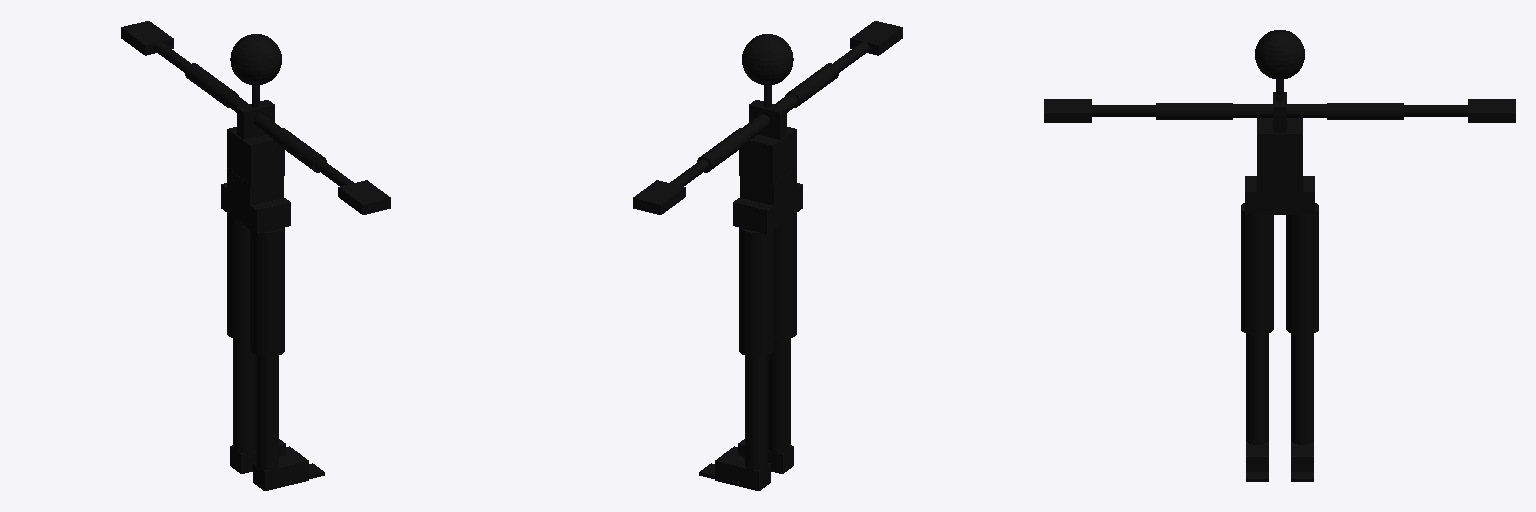
--- Render facts (derived) ---
The picture shows the robot from 3 angles, left to right: view 1: azimuth 30°, elevation 25°; view 2: azimuth 150°, elevation 25°; view 3: azimuth 270°, elevation 25°; orthographic projection.
Robot: XSensStyleModel_template — 51 links, 50 joints (48 revolute, 2 fixed); root link Pelvis; default pose: all joints at 0.
Visible links, largest first — view 1: RightUpperLeg, LeftUpperLeg, RightLowerLeg, LeftLowerLeg, Head, Pelvis, RightFoot, T12, RightHand, L5, LeftHand, L3 (+4 smaller); view 2: LeftUpperLeg, RightUpperLeg, LeftLowerLeg, RightLowerLeg, Head, Pelvis, LeftFoot, T12, LeftHand, L5, RightHand, L3 (+4 smaller); view 3: RightUpperLeg, LeftUpperLeg, RightLowerLeg, LeftLowerLeg, Pelvis, Head, T12, RightUpperArm, LeftUpperArm, RightHand, LeftHand, L5 (+7 smaller).
Boxes of the visible links, <box> form: RightUpperLeg: <box>250,228,284,356</box>; LeftUpperLeg: <box>227,213,249,339</box>; RightLowerLeg: <box>256,356,278,469</box>; LeftLowerLeg: <box>233,339,255,452</box>; Head: <box>230,34,281,85</box>; Pelvis: <box>221,183,290,233</box>; RightFoot: <box>253,452,308,490</box>; T12: <box>227,127,284,164</box>; RightHand: <box>338,180,390,214</box>; L5: <box>227,168,283,205</box>; LeftHand: <box>121,21,173,55</box>; L3: <box>227,148,284,184</box>; LeftUpperLeg: <box>739,228,773,356</box>; RightUpperLeg: <box>774,213,796,339</box>; LeftLowerLeg: <box>745,356,767,469</box>; RightLowerLeg: <box>768,339,790,452</box>; Head: <box>742,34,793,85</box>; Pelvis: <box>733,183,802,233</box>; LeftFoot: <box>715,452,770,490</box>; T12: <box>739,127,796,164</box>; LeftHand: <box>633,180,685,214</box>; L5: <box>740,168,796,205</box>; RightHand: <box>850,21,902,55</box>; L3: <box>739,148,796,184</box>; RightUpperLeg: <box>1241,203,1273,334</box>; LeftUpperLeg: <box>1286,203,1318,334</box>; RightLowerLeg: <box>1246,334,1268,444</box>; LeftLowerLeg: <box>1291,334,1313,444</box>; Pelvis: <box>1245,176,1314,214</box>; Head: <box>1255,30,1304,79</box>; T12: <box>1257,118,1302,152</box>; RightUpperArm: <box>1156,103,1232,119</box>; LeftUpperArm: <box>1327,103,1403,119</box>; RightHand: <box>1044,99,1091,122</box>; LeftHand: <box>1468,99,1515,122</box>; L5: <box>1257,172,1302,191</box>.
Size in the robot's own frame: 0.294 by 1.68 by 1.69 metres.
Geometry: primitives only (box / cylinder / sphere), no mesh files.

URDF robot description (XSensStyleModel_template):
<!--URDF MODEL 48 DoFs-->

<robot name="XSensStyleModel_template">

<material name="color">
    <color rgba="0.1 0.1 0.1 1"/>
</material>

<!--To open this model with Gazebo replace the null masses, inertias and dimensions of the 'fake links f1 and f2'-->
    <!--LINKS-->
	<!--Link base (1)-->
	<link name="Pelvis">
        <inertial>
            <mass value="4.4"/>
			<!--COM origin wrt pHipOrigin-->
            <origin xyz="0           0    0.048424" rpy="0 0 0" />
            <inertia ixx="0.025751" iyy="0.0099332" izz="0.029571" ixy="0" ixz="0" iyz="0"/>
        </inertial>

        <visual>
			<!--box origin wrt pHipOrigin-->
            <origin xyz="0           0    0.048424" rpy="0 0 0" />
            <geometry>
                <box size="0.13695     0.24878    0.091304"/>
            </geometry>
            <material name="color"/>
        </visual>

        <collision>
			<!--box origin wrt pHipOrigin-->
            <origin xyz="0           0    0.048424" rpy="0 0 0" />
            <geometry>
                <box size="0.13695     0.24878    0.091304"/>
            </geometry>
        </collision>

    </link>
    <!--Chain from (2) to (7)-->
	<link name="L5_f1">
        <inertial>
            <mass value="0"/>
            <origin xyz="0 0 0" rpy="0 0 0" />
            <inertia ixx="0" iyy="0" izz="0" ixy="0" ixz="0" iyz="0"/>
        </inertial>
    </link>
	<link name="L5">
        <inertial>
            <mass value="5.61"/>
			<!--COM origin wrt jL5S1-->
            <origin xyz="0           0    0.040831" rpy="0 0 0" />
            <inertia ixx="0.015357" iyy="0.011885" izz="0.021007" ixy="0" ixz="0" iyz="0"/>
        </inertial>

        <visual>
			<!--box origin origin wrt jL5S1-->
            <origin xyz="0           0    0.040831" rpy="0 0 0" />
            <geometry>
                <box size="0.13695      0.1618    0.081662"/>
            </geometry>
            <material name="color"/>
        </visual>

        <collision>
			<!--box origin origin wrt jL5S1-->
            <origin xyz="0           0    0.040831" rpy="0 0 0" />
            <geometry>
                <box size="0.13695      0.1618    0.081662"/>
            </geometry>
        </collision>
    </link>
	<link name="L3_f1">
        <inertial>
            <mass value="0"/>
            <origin xyz="0 0 0" rpy="0 0 0" />
            <inertia ixx="0" iyy="0" izz="0" ixy="0" ixz="0" iyz="0"/>
        </inertial>
    </link>
	<link name="L3">
        <inertial>
            <mass value="5.61"/>
			<!--COM origin wrt jL4L3-->
            <origin xyz="0           0    0.036874" rpy="0 0 0" />
            <inertia ixx="0.014782" iyy="0.01131" izz="0.021007" ixy="0" ixz="0" iyz="0"/>
        </inertial>

        <visual>
			<!--box origin origin wrt jL4L3-->
            <origin xyz="0           0    0.036874" rpy="0 0 0" />
            <geometry>
                <box size="0.13695      0.1618    0.073749"/>
            </geometry>
            <material name="color"/>
        </visual>

        <collision>
			<!--box origin origin wrt jL4L3-->
            <origin xyz="0           0    0.036874" rpy="0 0 0" />
            <geometry>
                <box size="0.13695      0.1618    0.073749"/>
            </geometry>
        </collision>
    </link>
	<link name="T12_f1">
        <inertial>
            <mass value="0"/>
            <origin xyz="0 0 0" rpy="0 0 0" />
            <inertia ixx="0" iyy="0" izz="0" ixy="0" ixz="0" iyz="0"/>
        </inertial>
    </link>
	<link name="T12">
        <inertial>
            <mass value="5.61"/>
			<!--COM origin wrt jL1T12-->
            <origin xyz="0           0    0.036874" rpy="0 0 0" />
            <inertia ixx="0.014782" iyy="0.01131" izz="0.021007" ixy="0" ixz="0" iyz="0"/>
        </inertial>

        <visual>
			<!--box origin origin wrt jL1T12-->
            <origin xyz="0           0    0.036874" rpy="0 0 0" />
            <geometry>
                <box size="0.13695      0.1618    0.073749"/>
            </geometry>
            <material name="color"/>
        </visual>

        <collision>
			<!--box origin origin wrt jL1T12-->
            <origin xyz="0           0    0.036874" rpy="0 0 0" />
            <geometry>
                <box size="0.13695      0.1618    0.073749"/>
            </geometry>
        </collision>
    </link>
	<link name="T8_f1">
        <inertial>
            <mass value="0"/>
            <origin xyz="0 0 0" rpy="0 0 0" />
            <inertia ixx="0" iyy="0" izz="0" ixy="0" ixz="0" iyz="0"/>
        </inertial>
    </link>
	<link name="T8_f2">
        <inertial>
            <mass value="0"/>
            <origin xyz="0 0 0" rpy="0 0 0" />
            <inertia ixx="0" iyy="0" izz="0" ixy="0" ixz="0" iyz="0"/>
        </inertial>
    </link>
	<link name="T8">
        <inertial>
            <mass value="2.2"/>
			<!--COM origin wrt jT9T8-->
            <origin xyz="0           0    0.052124" rpy="0 0 0" />
            <inertia ixx="0.0024867" iyy="0.0048766" izz="0.0033785" ixy="0" ixz="0" iyz="0"/>
        </inertial>

        <visual>
			<!--box origin wrt jT9T8-->
            <origin xyz="0           0    0.052124" rpy="0 0 0" />
            <geometry>
                <box size="0.12543    0.051924     0.10425"/>
            </geometry>
            <material name="color"/>
        </visual>

        <collision>
			<!--box origin wrt jT9T8-->
            <origin xyz="0           0    0.052124" rpy="0 0 0" />
            <geometry>
                <box size="0.12543    0.051924     0.10425"/>
            </geometry>
        </collision>

    </link>
	<link name="Neck_f1">
        <inertial>
            <mass value="0"/>
            <origin xyz="0 0 0" rpy="0 0 0" />
            <inertia ixx="0" iyy="0" izz="0" ixy="0" ixz="0" iyz="0"/>
        </inertial>
    </link>
	<link name="Neck_f2">
        <inertial>
            <mass value="0"/>
            <origin xyz="0 0 0" rpy="0 0 0" />
            <inertia ixx="0" iyy="0" izz="0" ixy="0" ixz="0" iyz="0"/>
        </inertial>
    </link>
	<link name="Neck">
        <inertial>
            <mass value="0.66"/>
			<!--COM origin wrt jT1C7-->
            <origin xyz="0           0    0.043706" rpy="0 0 0" />
            <inertia ixx="0.00055144" iyy="0.00055144" izz="0.00026239" ixy="0" ixz="0" iyz="0"/>
        </inertial>

        <visual>
			<!--box origin wrt jT1C7-->
            <origin xyz="0           0    0.043706" rpy="0 0 0" />
            <geometry>
		<cylinder length="0.087412" radius="0.014099"/>
            </geometry>
            <material name="color"/>
        </visual>

        <collision>
			<!--box origin wrt jT1C7-->
            <origin xyz="0           0    0.043706" rpy="0 0 0" />
            <geometry>
                <cylinder length="0.087412" radius="0.014099"/>
            </geometry>
        </collision>
    </link>
	<link name="Head_f1">
        <inertial>
            <mass value="0"/>
            <origin xyz="0 0 0" rpy="0 0 0" />
            <inertia ixx="0" iyy="0" izz="0" ixy="0" ixz="0" iyz="0"/>
        </inertial>
    </link>
	<link name="Head">
        <inertial>
            <mass value="1.98"/>
			<!--COM origin wrt jC1Head-->
            <origin xyz="0           0    0.089927" rpy="0 0 0" />
            <inertia ixx="0.0064049" iyy="0.0064049" izz="0.0064049" ixy="0" ixz="0" iyz="0"/>
        </inertial>

        <visual>
			<!--boc origin wrt jC1Head-->
            <origin xyz="0           0    0.089927" rpy="0 0 0" />
            <geometry>
                <sphere radius="0.089927"/>
            </geometry>
            <material name="color"/>
        </visual>

        <collision>
			<!--box origin wrt jC1Head-->
            <origin xyz="0           0    0.089927" rpy="0 0 0" />
            <geometry>
                <sphere radius="0.089927"/>
            </geometry>
        </collision>

    </link>
	<!--Chain from (8) to (11)-->
	<link name="RightShoulder">
        <inertial>
            <mass value="1.705"/>
			<!--COM origin wrt jRightC7Shoulder-->
            <origin xyz="0   -0.070455           0" rpy="0 0 0" />
            <inertia ixx="0.0030911" iyy="0.00053983" izz="0.0030911" ixy="0" ixz="0" iyz="0"/>
        </inertial>

        <visual>
			<!--box origin wrt jRightC7Shoulder. RPY rotated of pi/2.-->
            <origin xyz="0   -0.070455           0" rpy="1.5708 0 0" />
            <geometry>
                <cylinder length="0.14091" radius="0.025164"/>
            </geometry>
            <material name="color"/>
        </visual>

        <collision>
			<!--box origin wrt jRightC7Shoulder. RPY rotated of pi/2.-->
            <origin xyz="0   -0.070455           0" rpy="1.5708 0 0" />
            <geometry>
                <cylinder length="0.14091" radius="0.025164"/>
            </geometry>
        </collision>

    </link>
	<link name="RightUpperArm_f1">
        <inertial>
            <mass value="0"/>
            <origin xyz="0 0 0" rpy="0 0 0" />
            <inertia ixx="0" iyy="0" izz="0" ixy="0" ixz="0" iyz="0"/>
        </inertial>
    </link>
	<link name="RightUpperArm_f2">
        <inertial>
            <mass value="0"/>
            <origin xyz="0 0 0" rpy="0 0 0" />
            <inertia ixx="0" iyy="0" izz="0" ixy="0" ixz="0" iyz="0"/>
        </inertial>
    </link>
    <link name="RightUpperArm">
        <inertial>
            <mass value="1.65"/>
			<!--COM origin wrt jRightShoulder-->
            <origin xyz="0    -0.13806           0" rpy="0 0 0" />
            <inertia ixx="0.010857" iyy="0.00074763" izz="0.010857" ixy="0" ixz="0" iyz="0"/>
        </inertial>

        <visual>
			<!--box origin wrt jRightShoulder. RPY rotated of pi/2.-->
            <origin xyz="0    -0.13806           0" rpy="1.5708 0 0" />
            <geometry>
                <cylinder length="0.27611" radius="0.030104"/>
            </geometry>
            <material name="color"/>
        </visual>

        <collision>
			<!--box origin wrt jRightShoulder. RPY rotated of pi/2.-->
            <origin xyz="0    -0.13806           0" rpy="1.5708 0 0" />
            <geometry>
                <cylinder length="0.27611" radius="0.030104"/>
            </geometry>
        </collision>

    </link>
	<link name="RightForeArm_f1">
        <inertial>
            <mass value="0"/>
            <origin xyz="0 0 0" rpy="0 0 0" />
            <inertia ixx="0" iyy="0" izz="0" ixy="0" ixz="0" iyz="0"/>
        </inertial>
    </link>
	<link name="RightForeArm">
        <inertial>
            <mass value="1.1"/>
			<!--COM origin wrt jRightElbow-->
            <origin xyz="0    -0.11372           0" rpy="0 0 0" />
            <inertia ixx="0.0048522" iyy="0.00022152" izz="0.0048522" ixy="0" ixz="0" iyz="0"/>
        </inertial>

        <visual>
			<!--box origin wrt jRightElbow. RPY rotated of pi/2.-->
            <origin xyz="0    -0.11372           0" rpy="1.5708 0 0" />
            <geometry>
                <cylinder length="0.22743" radius="0.020069"/>
            </geometry>
            <material name="color"/>
        </visual>

        <collision>
			<!--box origin wrt jRightElbow. RPY rotated of pi/2.-->
            <origin xyz="0    -0.11372           0" rpy="1.5708 0 0" />
            <geometry>
                <cylinder length="0.22743" radius="0.020069"/>
            </geometry>
        </collision>

    </link>
	<link name="RightHand_f1">
        <inertial>
            <mass value="0"/>
            <origin xyz="0 0 0" rpy="0 0 0" />
            <inertia ixx="0" iyy="0" izz="0" ixy="0" ixz="0" iyz="0"/>
        </inertial>
    </link>
	<link name="RightHand">
        <inertial>
            <mass value="0.33"/>
			<!--COM origin wrt jRightWrist-->
            <origin xyz="0   -0.085441           0" rpy="0 0 0" />
            <inertia ixx="0.00084732" iyy="0.0004012" izz="0.0011599" ixy="0" ixz="0" iyz="0"/>
        </inertial>

        <visual>
			<!--box origin wrt jRightWrist-->
            <origin xyz="0   -0.085441           0" rpy="0 0 0" />
            <geometry>
                <box size="0.11392     0.17088    0.040138"/>
            </geometry>
            <material name="color"/>
        </visual>

        <collision>
			<!--box origin wrt jRightWrist-->
            <origin xyz="0   -0.085441           0" rpy="0 0 0" />
            <geometry>
                <box size="0.11392     0.17088    0.040138"/>
            </geometry>
        </collision>

    </link>
    <link name="RightHandCOM">
        <inertial>
            <mass value="0.00001"/>
            <origin xyz="0 0 0" rpy="0 0 0" />
            <inertia ixx="0" iyy="0" izz="0" ixy="0" ixz="0" iyz="0"/>
        </inertial>
        <visual>
            <!--box origin wrt jRightWrist-->
            <origin xyz="0   0           0" rpy="0 0 0" />
            <geometry>
                <box size="0     0    0"/>
            </geometry>
            <material name="color"/>
        </visual>
    </link>
	<!--Chain from (12) to (15)-->
	<link name="LeftShoulder">
        <inertial>
            <mass value="1.705"/>
			<!--COM origin wrt jLeftC7Shoulder-->
            <origin xyz="0    0.070455           0" rpy="0 0 0" />
            <inertia ixx="0.0030911" iyy="0.00053983" izz="0.0030911" ixy="0" ixz="0" iyz="0"/>
        </inertial>

        <visual>
			<!--box origin wrt jLeftC7Shoulder. RPY rotated of pi/2.-->
            <origin xyz="0    0.070455           0" rpy="1.5708 0 0" />
            <geometry>
                <cylinder length="0.14091" radius="0.025164"/>
            </geometry>
            <material name="color"/>
        </visual>

        <collision>
			<!--box origin wrt jLeftC7Shoulder. RPY rotated of pi/2.-->
            <origin xyz="0    0.070455           0" rpy="1.5708 0 0" />
            <geometry>
                <cylinder length="0.14091" radius="0.025164"/>
            </geometry>
        </collision>

    </link>
	<link name="LeftUpperArm_f1">
        <inertial>
            <mass value="0"/>
            <origin xyz="0 0 0" rpy="0 0 0" />
            <inertia ixx="0" iyy="0" izz="0" ixy="0" ixz="0" iyz="0"/>
        </inertial>
    </link>
	<link name="LeftUpperArm_f2">
        <inertial>
            <mass value="0"/>
            <origin xyz="0 0 0" rpy="0 0 0" />
            <inertia ixx="0" iyy="0" izz="0" ixy="0" ixz="0" iyz="0"/>
        </inertial>
    </link>
	<link name="LeftUpperArm">
        <inertial>
            <mass value="1.65"/>
			<!--COM origin wrt jLeftShoulder-->
            <origin xyz="0     0.13806           0" rpy="0 0 0" />
            <inertia ixx="0.010857" iyy="0.00074763" izz="0.010857" ixy="0" ixz="0" iyz="0"/>
        </inertial>

        <visual>
			<!--box origin wrt jLeftShoulder. RPY rotated of pi/2.-->
            <origin xyz="0     0.13806           0" rpy="1.5708 0 0" />
            <geometry>
                <cylinder length="0.27611" radius="0.030104"/>
            </geometry>
            <material name="color"/>
        </visual>

        <collision>
			<!--box origin wrt jLeftShoulder. RPY rotated of pi/2.-->
            <origin xyz="0     0.13806           0" rpy="1.5708 0 0" />
            <geometry>
                <cylinder length="0.27611" radius="0.030104"/>
            </geometry>
        </collision>

    </link>
	<link name="LeftForeArm_f1">
        <inertial>
            <mass value="0"/>
            <origin xyz="0 0 0" rpy="0 0 0" />
            <inertia ixx="0" iyy="0" izz="0" ixy="0" ixz="0" iyz="0"/>
        </inertial>
    </link>
	<link name="LeftForeArm">
        <inertial>
            <mass value="1.1"/>
			<!--COM origin wrt jLeftElbow-->
            <origin xyz="0     0.11372           0" rpy="0 0 0" />
            <inertia ixx="0.0048522" iyy="0.00022152" izz="0.0048522" ixy="0" ixz="0" iyz="0"/>
        </inertial>

        <visual>
			<!--box origin wrt jLeftElbow. RPY rotated of pi/2.-->
            <origin xyz="0     0.11372           0" rpy="1.5708 0 0" />
            <geometry>
                <cylinder length="0.22743" radius="0.020069"/>
            </geometry>
            <material name="color"/>
        </visual>

        <collision>
			<!--box origin wrt jLeftElbow. RPY rotated of pi/2.-->
            <origin xyz="0     0.11372           0" rpy="1.5708 0 0" />
            <geometry>
                <cylinder length="0.22743" radius="0.020069"/>
            </geometry>
        </collision>

    </link>
	<link name="LeftHand_f1">
        <inertial>
            <mass value="0"/>
            <origin xyz="0 0 0" rpy="0 0 0" />
            <inertia ixx="0" iyy="0" izz="0" ixy="0" ixz="0" iyz="0"/>
        </inertial>
    </link>
	<link name="LeftHand">
        <inertial>
            <mass value="0.33"/>
			<!--COM origin wrt jLeftWrist-->
            <origin xyz="0    0.085441           0" rpy="0 0 0" />
            <inertia ixx="0.00084732" iyy="0.0004012" izz="0.0011599" ixy="0" ixz="0" iyz="0"/>
        </inertial>

        <visual>
			<!--COM origin wrt jLeftWrist-->
            <origin xyz="0    0.085441           0" rpy="0 0 0" />
            <geometry>
                <box size="0.11392     0.17088    0.040138"/>
            </geometry>
            <material name="color"/>
        </visual>

        <collision>
			<!--COM origin wrt jLeftWrist-->
            <origin xyz="0    0.085441           0" rpy="0 0 0" />
            <geometry>
                <box size="0.11392     0.17088    0.040138"/>
            </geometry>
        </collision>

    </link>
    <link name="LeftHandCOM">
        <inertial>
            <mass value="0.00001"/>
            <origin xyz="0 0 0" rpy="0 0 0" />
            <inertia ixx="0" iyy="0" izz="0" ixy="0" ixz="0" iyz="0"/>
        </inertial>
        <visual>
            <!--COM origin wrt jLeftWrist-->
            <origin xyz="0    0           0" rpy="0 0 0" />
            <geometry>
                <box size="0     0    0"/>
            </geometry>
            <material name="color"/>
        </visual>
    </link>
	<!--Chain from (16) to (19)-->
	<link name="RightUpperLeg_f1">
        <inertial>
            <mass value="0"/>
            <origin xyz="0 0 0" rpy="0 0 0" />
            <inertia ixx="0" iyy="0" izz="0" ixy="0" ixz="0" iyz="0"/>
        </inertial>
    </link>
	<link name="RightUpperLeg_f2">
        <inertial>
            <mass value="0"/>
            <origin xyz="0 0 0" rpy="0 0 0" />
            <inertia ixx="0" iyy="0" izz="0" ixy="0" ixz="0" iyz="0"/>
        </inertial>
    </link>
    <link name="RightUpperLeg">
        <inertial>
            <mass value="6.875"/>
			<!--COM origin wrt jRightHip-->
            <origin xyz="0           0    -0.23835" rpy="0 0 0" />
            <inertia ixx="0.1364" iyy="0.1364" izz="0.012416" ixy="0" ixz="0" iyz="0"/>
        </inertial>

        <visual>
			<!--box origin wrt jRightHip-->
            <origin xyz="0           0    -0.23835" rpy="0 0 0" />
            <geometry>
                <cylinder length="0.4767" radius="0.060101"/>
            </geometry>
            <material name="color"/>
        </visual>

        <collision>
			<!--box origin wrt jRightHip-->
            <origin xyz="0           0    -0.23835" rpy="0 0 0" />
            <geometry>
                <cylinder length="0.4767" radius="0.060101"/>
            </geometry>
        </collision>

    </link>
	<link name="RightLowerLeg_f1">
        <inertial>
            <mass value="0"/>
            <origin xyz="0 0 0" rpy="0 0 0" />
            <inertia ixx="0" iyy="0" izz="0" ixy="0" ixz="0" iyz="0"/>
        </inertial>
    </link>
    <link name="RightLowerLeg">
        <inertial>
            <mass value="2.0075"/>
			<!--COM origin wrt jRightKnee-->
            <origin xyz="0           0    -0.22044" rpy="0 0 0" />
            <inertia ixx="0.033337" iyy="0.033337" izz="0.0016411" ixy="0" ixz="0" iyz="0"/>
        </inertial>

        <visual>
			<!--box origin wrt jRightKnee-->
            <origin xyz="0           0    -0.22044" rpy="0 0 0" />
            <geometry>
                <cylinder length="0.44087" radius="0.040434"/>
            </geometry>
            <material name="color"/>
        </visual>

        <collision>
			<!--box origin wrt jRightKnee-->
            <origin xyz="0           0    -0.22044" rpy="0 0 0" />
            <geometry>
                <cylinder length="0.44087" radius="0.040434"/>
            </geometry>
        </collision>

    </link>
	<link name="RightFoot_f1">
        <inertial>
            <mass value="0"/>
            <origin xyz="0 0 0" rpy="0 0 0" />
            <inertia ixx="0" iyy="0" izz="0" ixy="0" ixz="0" iyz="0"/>
        </inertial>
    </link>
	<link name="RightFoot_f2">
        <inertial>
            <mass value="0"/>
            <origin xyz="0 0 0" rpy="0 0 0" />
            <inertia ixx="0" iyy="0" izz="0" ixy="0" ixz="0" iyz="0"/>
        </inertial>
    </link>
    <link name="RightFoot">
        <inertial>
            <mass value="0.715"/>
			<!--COM origin wrt jRightAnkle-->
            <origin xyz="0.054236           0   -0.037868" rpy="0 0 0" />
            <inertia ixx="0.00073144" iyy="0.0022406" izz="0.0022885" ixy="0" ixz="0" iyz="0"/>
        </inertial>

        <visual>
			<!--box origin wrt jRightAnkle-->
	    	<origin xyz="0.054236           0   -0.037868" rpy="0 0 0" />
            <geometry>
                <box size="0.17852    0.080869    0.075737"/>
            </geometry>
            <material name="color"/>
        </visual>

        <collision>
			<!--box origin wrt jRightAnkle-->
		    <origin xyz="0.054236           0   -0.037868" rpy="0 0 0" />
	            <geometry>
	                <box size="0.17852    0.080869    0.075737"/>
	            </geometry>
        </collision>

    </link>
    <link name="RightToe">
        <inertial>
            <mass value="0.0825"/>
			<!--COM origin wrt jRightBallFoot-->
            <origin xyz="0.030741           0           0" rpy="0 0 0" />
            <inertia ixx="4.6403e-05" iyy="2.7429e-05" izz="7.0948e-05" ixy="0" ixz="0" iyz="0"/>
        </inertial>

        <visual>
			<!--box origin wrt jRightBallFoot-->
            <origin xyz="0.030741           0           0" rpy="0 0 0" />
            <geometry>
                <box size="0.061481    0.080869    0.014482"/>
            </geometry>
            <material name="color"/>
        </visual>

        <collision>
			<!--box origin wrt jRightBallFoot-->
            <origin xyz="0.030741           0           0" rpy="0 0 0" />
            <geometry>
                <box size="0.061481    0.080869    0.014482"/>
            </geometry>
        </collision>
    </link>
	<!--Chain from (20) to (23)-->
	<link name="LeftUpperLeg_f1">
        <inertial>
            <mass value="0"/>
            <origin xyz="0 0 0" rpy="0 0 0" />
            <inertia ixx="0" iyy="0" izz="0" ixy="0" ixz="0" iyz="0"/>
        </inertial>
    </link>
	<link name="LeftUpperLeg_f2">
        <inertial>
            <mass value="0"/>
            <origin xyz="0 0 0" rpy="0 0 0" />
            <inertia ixx="0" iyy="0" izz="0" ixy="0" ixz="0" iyz="0"/>
        </inertial>
    </link>
    <link name="LeftUpperLeg">
        <inertial>
            <mass value="6.875"/>
			<!--COM origin wrt jLeftHip-->
            <origin xyz="0           0    -0.23835" rpy="0 0 0" />
            <inertia ixx="0.1364" iyy="0.1364" izz="0.012416" ixy="0" ixz="0" iyz="0"/>
        </inertial>

        <visual>
			<!--box origin wrt jLeftHip-->
            <origin xyz="0           0    -0.23835" rpy="0 0 0" />
            <geometry>
                <cylinder length="0.4767" radius="0.060101"/>
            </geometry>
            <material name="color"/>
        </visual>

        <collision>
			<!--box origin wrt jLeftHip-->
            <origin xyz="0           0    -0.23835" rpy="0 0 0" />
            <geometry>
                <cylinder length="0.4767" radius="0.060101"/>
            </geometry>
        </collision>

    </link>
	<link name="LeftLowerLeg_f1">
        <inertial>
            <mass value="0"/>
            <origin xyz="0 0 0" rpy="0 0 0" />
            <inertia ixx="0" iyy="0" izz="0" ixy="0" ixz="0" iyz="0"/>
        </inertial>
    </link>
	<link name="LeftLowerLeg">
        <inertial>
            <mass value="2.0075"/>
			<!--COM origin wrt jLeftKnee-->
            <origin xyz="0           0    -0.22044" rpy="0 0 0" />
            <inertia ixx="0.033337" iyy="0.033337" izz="0.0016411" ixy="0" ixz="0" iyz="0"/>
        </inertial>

        <visual>
			<!--box origin wrt jLeftKnee-->
            <origin xyz="0           0    -0.22044" rpy="0 0 0" />
            <geometry>
		<cylinder length="0.44087" radius="0.040434"/>
            </geometry>
            <material name="color"/>
        </visual>

        <collision>
			<!--box origin wrt jLeftKnee-->
            <origin xyz="0           0    -0.22044" rpy="0 0 0" />
            <geometry>
		<cylinder length="0.44087" radius="0.040434"/>
            </geometry>
        </collision>

    </link>
	<link name="LeftFoot_f1">
        <inertial>
            <mass value="0"/>
            <origin xyz="0 0 0" rpy="0 0 0" />
            <inertia ixx="0" iyy="0" izz="0" ixy="0" ixz="0" iyz="0"/>
        </inertial>
    </link>
	<link name="LeftFoot_f2">
        <inertial>
            <mass value="0"/>
            <origin xyz="0 0 0" rpy="0 0 0" />
            <inertia ixx="0" iyy="0" izz="0" ixy="0" ixz="0" iyz="0"/>
        </inertial>
    </link>
    <link name="LeftFoot">
        <inertial>
            <mass value="0.715"/>
			<!--COM origin wrt jLeftAnkle-->
            <origin xyz="0.054236           0   -0.037868" rpy="0 0 0" />
            <inertia ixx="0.00073144" iyy="0.0022406" izz="0.0022885" ixy="0" ixz="0" iyz="0"/>
        </inertial>

        <visual>
			<!--box origin wrt jLeftAnkle-->
	   	 	<origin xyz="0.054236           0   -0.037868" rpy="0 0 0" />
            <geometry>
                <box size="0.17852    0.080869    0.075737"/>
            </geometry>
            <material name="color"/>
        </visual>

        <collision>
			<!--box origin wrt jLeftAnkle-->
		    <origin xyz="0.054236           0   -0.037868" rpy="0 0 0" />
	            <geometry>
	                <box size="0.17852    0.080869    0.075737"/>
	            </geometry>
        </collision>

    </link>
	<link name="LeftToe">
        <inertial>
            <mass value="0.0825"/>
			<!--COM origin wrt jLeftBallFoot-->
            <origin xyz="0.030741           0           0" rpy="0 0 0" />
            <inertia ixx="4.6403e-05" iyy="2.7429e-05" izz="7.0948e-05" ixy="0" ixz="0" iyz="0"/>
        </inertial>

        <visual>
			<!--box origin wrt jLeftBallFoot-->
            <origin xyz="0.030741           0           0" rpy="0 0 0" />
            <geometry>
                <box size="0.061481    0.080869    0.014482"/>
            </geometry>
            <material name="color"/>
        </visual>

        <collision>
			<!--box origin wrt jLeftBallFoot-->
            <origin xyz="0.030741           0           0" rpy="0 0 0" />
            <geometry>
                <box size="0.061481    0.080869    0.014482"/>
            </geometry>
        </collision>
    </link>


	<!--JOINTS-->
	<!--Chain from (2) to (7)-->
	<joint name="jL5S1_rotx" type="revolute">
        <origin xyz="-0.000566           0    0.094076" rpy="0 0 0"/>
        <parent link="Pelvis"/>
        <child link="L5_f1"/>
        <dynamics damping="0.1" friction="0.0"/>
        <limit effort="30" velocity="1.0" lower="-10.0" upper="10.0" />
        <axis xyz="1 0 0" />
    </joint>
	<joint name="jL5S1_roty" type="revolute">
        <origin xyz="0 0 0" rpy="0 0 0"/>
        <parent link="L5_f1"/>
        <child link="L5"/>
        <dynamics damping="0.1" friction="0.0"/>
        <limit effort="30" velocity="1.0" lower="-10.0" upper="10.0" />
        <axis xyz="0 1 0" />
    </joint>
	<joint name="jL4L3_rotx" type="revolute">
        <origin xyz="0.001028           0    0.081662" rpy="0 0 0"/>
        <parent link="L5"/>
        <child link="L3_f1"/>
        <dynamics damping="0.1" friction="0.0"/>
        <limit effort="30" velocity="1.0" lower="-10.0" upper="10.0" />
        <axis xyz="1 0 0" />
    </joint>
	<joint name="jL4L3_roty" type="revolute">
        <origin xyz="0 0 0" rpy="0 0 0"/>
        <parent link="L3_f1"/>
        <child link="L3"/>
        <dynamics damping="0.1" friction="0.0"/>
        <limit effort="30" velocity="1.0" lower="-10.0" upper="10.0" />
        <axis xyz="0 1 0" />
    </joint>
	<joint name="jL1T12_rotx" type="revolute">
        <origin xyz="0           0    0.073749" rpy="0 0 0"/>
        <parent link="L3"/>
        <child link="T12_f1"/>
        <dynamics damping="0.1" friction="0.0"/>
        <limit effort="30" velocity="1.0" lower="-10.0" upper="10.0" />
        <axis xyz="1 0 0" />
    </joint>
	<joint name="jL1T12_roty" type="revolute">
        <origin xyz="0 0 0" rpy="0 0 0"/>
        <parent link="T12_f1"/>
        <child link="T12"/>
        <dynamics damping="0.1" friction="0.0"/>
        <limit effort="30" velocity="1.0" lower="-10.0" upper="10.0" />
        <axis xyz="0 1 0" />
    </joint>
	<joint name="jT9T8_rotx" type="revolute">
        <origin xyz="0           0    0.073749" rpy="0 0 0"/>
        <parent link="T12"/>
        <child link="T8_f1"/>
        <dynamics damping="0.1" friction="0.0"/>
        <limit effort="30" velocity="1.0" lower="-10.0" upper="10.0" />
        <axis xyz="1 0 0" />
    </joint>
	<joint name="jT9T8_roty" type="revolute">
        <origin xyz="0 0 0" rpy="0 0 0"/>
        <parent link="T8_f1"/>
        <child link="T8_f2"/>
        <dynamics damping="0.1" friction="0.0"/>
        <limit effort="30" velocity="1.0" lower="-10.0" upper="10.0" />
        <axis xyz="0 1 0" />
    </joint>
    <joint name="jT9T8_rotz" type="revolute">
        <origin xyz="0 0 0" rpy="0 0 0"/>
        <parent link="T8_f2"/>
        <child link="T8"/>
        <dynamics damping="0.1" friction="0.0"/>
        <limit effort="30" velocity="1.0" lower="-10.0" upper="10.0" />
        <axis xyz="0 0 1" />
    </joint>
	<joint name="jT1C7_rotx" type="revolute">
        <origin xyz="0           0     0.10425" rpy="0 0 0"/>
        <parent link="T8"/>
        <child link="Neck_f1"/>
        <dynamics damping="0.1" friction="0.0"/>
        <limit effort="30" velocity="1.0" lower="-10.0" upper="10.0" />
        <axis xyz="1 0 0" />
    </joint>
	<joint name="jT1C7_roty" type="revolute">
        <origin xyz="0 0 0" rpy="0 0 0"/>
        <parent link="Neck_f1"/>
        <child link="Neck_f2"/>
        <dynamics damping="0.1" friction="0.0"/>
        <limit effort="30" velocity="1.0" lower="-10.0" upper="10.0" />
        <axis xyz="0 1 0" />
    </joint>
    <joint name="jT1C7_rotz" type="revolute">
        <origin xyz="0 0 0" rpy="0 0 0"/>
        <parent link="Neck_f2"/>
        <child link="Neck"/>
        <dynamics damping="0.1" friction="0.0"/>
        <limit effort="30" velocity="1.0" lower="-10.0" upper="10.0" />
        <axis xyz="0 0 1" />
    </joint>
	<joint name="jC1Head_rotx" type="revolute">
        <origin xyz="0.000961           0    0.087412" rpy="0 0 0"/>
        <parent link="Neck"/>
        <child link="Head_f1"/>
        <dynamics damping="0.1" friction="0.0"/>
        <limit effort="30" velocity="1.0" lower="-10.0" upper="10.0" />
        <axis xyz="1 0 0" />
    </joint>
	<joint name="jC1Head_roty" type="revolute">
        <origin xyz="0 0 0" rpy="0 0 0"/>
        <parent link="Head_f1"/>
        <child link="Head"/>
        <dynamics damping="0.1" friction="0.0"/>
        <limit effort="30" velocity="1.0" lower="-10.0" upper="10.0" />
        <axis xyz="0 1 0" />
    </joint>
	<!--Chain from (8) to (11)-->
	<joint name="jRightC7Shoulder_rotx" type="revolute">
        <origin xyz="0   -0.025962    0.058814" rpy="0 0 0"/>
        <parent link="T8"/>
        <child link="RightShoulder"/>
        <dynamics damping="0.1" friction="0.0"/>
        <limit effort="30" velocity="1.0" lower="-10.0" upper="10.0" />
        <axis xyz="1 0 0" />
    </joint>
	<joint name="jRightShoulder_rotx" type="revolute">
        <origin xyz="0    -0.14091           0" rpy="0 0 0"/>
        <parent link="RightShoulder"/>
        <child link="RightUpperArm_f1"/>
        <dynamics damping="0.1" friction="0.0"/>
        <limit effort="30" velocity="1.0" lower="-10.0" upper="10.0" />
        <axis xyz="1 0 0" />
    </joint>
	<joint name="jRightShoulder_roty" type="revolute">
        <origin xyz="0 0 0" rpy="0 0 0"/>
        <parent link="RightUpperArm_f1"/>
        <child link="RightUpperArm_f2"/>
        <dynamics damping="0.1" friction="0.0"/>
        <limit effort="30" velocity="1.0" lower="-10.0" upper="10.0" />
        <axis xyz="0 1 0" />
    </joint>
    <joint name="jRightShoulder_rotz" type="revolute">
        <origin xyz="0 0 0" rpy="0 0 0"/>
        <parent link="RightUpperArm_f2"/>
        <child link="RightUpperArm"/>
        <dynamics damping="0.1" friction="0.0"/>
        <limit effort="30" velocity="1.0" lower="-10.0" upper="10.0" />
        <axis xyz="0 0 1" />
    </joint>
	<joint name="jRightElbow_roty" type="revolute">
        <origin xyz="0    -0.27611           0" rpy="0 0 0"/>
        <parent link="RightUpperArm"/>
        <child link="RightForeArm_f1"/>
        <dynamics damping="0.1" friction="0.0"/>
        <limit effort="30" velocity="1.0" lower="-10.0" upper="10.0" />
        <axis xyz="0 1 0" />
    </joint>
	<joint name="jRightElbow_rotz" type="revolute">
        <origin xyz="0 0 0" rpy="0 0 0"/>
        <parent link="RightForeArm_f1"/>
        <child link="RightForeArm"/>
        <dynamics damping="0.1" friction="0.0"/>
        <limit effort="30" velocity="1.0" lower="-10.0" upper="10.0" />
        <axis xyz="0 0 1" />
    </joint>
	<joint name="jRightWrist_rotx" type="revolute">
        <origin xyz="7.2e-05    -0.22743           0" rpy="0 0 0"/>
        <parent link="RightForeArm"/>
        <child link="RightHand_f1"/>
        <dynamics damping="0.1" friction="0.0"/>
        <limit effort="30" velocity="1.0" lower="-10.0" upper="10.0" />
        <axis xyz="1 0 0" />
    </joint>
	<joint name="jRightWrist_rotz" type="revolute">
        <origin xyz="0 0 0" rpy="0 0 0"/>
        <parent link="RightHand_f1"/>
        <child link="RightHand"/>
        <dynamics damping="0.1" friction="0.0"/>
        <limit effort="30" velocity="1.0" lower="-10.0" upper="10.0" />
        <axis xyz="0 0 1" />
    </joint>
    <joint name="jRightHandCOM" type="fixed">
        <origin xyz="0 -0.096206 0" rpy="0 0 0"/>
        <parent link="RightHand"/>
        <child link="RightHandCOM"/>
        <axis xyz="0 0 0" />
    </joint>
	<!--Chain from (12) to (15)-->
	<joint name="jLeftC7Shoulder_rotx" type="revolute">
        <origin xyz="0    0.025962    0.058814" rpy="0 0 0"/>
        <parent link="T8"/>
        <child link="LeftShoulder"/>
        <dynamics damping="0.1" friction="0.0"/>
        <limit effort="30" velocity="1.0" lower="-10.0" upper="10.0" />
        <axis xyz="1 0 0" />
    </joint>
	<joint name="jLeftShoulder_rotx" type="revolute">
        <origin xyz="0     0.14091           0" rpy="0 0 0"/>
        <parent link="LeftShoulder"/>
        <child link="LeftUpperArm_f1"/>
        <dynamics damping="0.1" friction="0.0"/>
        <limit effort="30" velocity="1.0" lower="-10.0" upper="10.0" />
        <axis xyz="1 0 0" />
    </joint>
	<joint name="jLeftShoulder_roty" type="revolute">
        <origin xyz="0 0 0" rpy="0 0 0"/>
        <parent link="LeftUpperArm_f1"/>
        <child link="LeftUpperArm_f2"/>
        <dynamics damping="0.1" friction="0.0"/>
        <limit effort="30" velocity="1.0" lower="-10.0" upper="10.0" />
        <axis xyz="0 1 0" />
    </joint>
    <joint name="jLeftShoulder_rotz" type="revolute">
        <origin xyz="0 0 0" rpy="0 0 0"/>
        <parent link="LeftUpperArm_f2"/>
        <child link="LeftUpperArm"/>
        <dynamics damping="0.1" friction="0.0"/>
        <limit effort="30" velocity="1.0" lower="-10.0" upper="10.0" />
        <axis xyz="0 0 1" />
    </joint>
    <joint name="jLeftElbow_roty" type="revolute">
        <origin xyz="0     0.27611           0" rpy="0 0 0"/>
        <parent link="LeftUpperArm"/>
        <child link="LeftForeArm_f1"/>
        <dynamics damping="0.1" friction="0.0"/>
        <limit effort="30" velocity="1.0" lower="-10.0" upper="10.0" />
        <axis xyz="0 1 0" />
    </joint>
    <joint name="jLeftElbow_rotz" type="revolute">
        <origin xyz="0 0 0" rpy="0 0 0"/>
        <parent link="LeftForeArm_f1"/>
        <child link="LeftForeArm"/>
        <dynamics damping="0.1" friction="0.0"/>
        <limit effort="30" velocity="1.0" lower="-10.0" upper="10.0" />
        <axis xyz="0 0 1" />
    </joint>
	<joint name="jLeftWrist_rotx" type="revolute">
        <origin xyz="7.2e-05     0.22743           0" rpy="0 0 0"/>
        <parent link="LeftForeArm"/>
        <child link="LeftHand_f1"/>
        <dynamics damping="0.1" friction="0.0"/>
        <limit effort="30" velocity="1.0" lower="-10.0" upper="10.0" />
        <axis xyz="1 0 0" />
    </joint>
	<joint name="jLeftWrist_rotz" type="revolute">
        <origin xyz="0 0 0" rpy="0 0 0"/>
        <parent link="LeftHand_f1"/>
        <child link="LeftHand"/>
        <dynamics damping="0.1" friction="0.0"/>
        <limit effort="30" velocity="1.0" lower="-10.0" upper="10.0" />
        <axis xyz="0 0 1" />
    </joint>
    <joint name="jLeftHandCOM" type="fixed">
        <origin xyz="0 0.096206 0" rpy="0 0 0"/>
        <parent link="LeftHand"/>
        <child link="LeftHandCOM"/>
        <axis xyz="0 0 0" />
    </joint>
	<!--Chain from (16) to (19)-->
	<joint name="jRightHip_rotx" type="revolute">
        <origin xyz="0.000283   -0.080902    0.002772" rpy="0 0 0"/>
        <parent link="Pelvis"/>
        <child link="RightUpperLeg_f1"/>
        <dynamics damping="0.1" friction="0.0"/>
        <limit effort="30" velocity="1.0" lower="-10.0" upper="10.0" />
        <axis xyz="1 0 0" />
    </joint>
	<joint name="jRightHip_roty" type="revolute">
        <origin xyz="0 0 0" rpy="0 0 0"/>
        <parent link="RightUpperLeg_f1"/>
        <child link="RightUpperLeg_f2"/>
        <dynamics damping="0.1" friction="0.0"/>
        <limit effort="30" velocity="1.0" lower="-10.0" upper="10.0" />
        <axis xyz="0 1 0" />
    </joint>
    <joint name="jRightHip_rotz" type="revolute">
        <origin xyz="0 0 0" rpy="0 0 0"/>
        <parent link="RightUpperLeg_f2"/>
        <child link="RightUpperLeg"/>
        <dynamics damping="0.1" friction="0.0"/>
        <limit effort="30" velocity="1.0" lower="-10.0" upper="10.0" />
        <axis xyz="0 0 1" />
    </joint>
	<joint name="jRightKnee_roty" type="revolute">
        <origin xyz="-3e-06           0     -0.4767" rpy="0 0 0"/>
        <parent link="RightUpperLeg"/>
        <child link="RightLowerLeg_f1"/>
        <dynamics damping="0.1" friction="0.0"/>
        <limit effort="30" velocity="1.0" lower="-10.0" upper="10.0" />
        <axis xyz="0 1 0" />
    </joint>
	<joint name="jRightKnee_rotz" type="revolute">
        <origin xyz="0 0 0" rpy="0 0 0"/>
        <parent link="RightLowerLeg_f1"/>
        <child link="RightLowerLeg"/>
        <dynamics damping="0.1" friction="0.0"/>
        <limit effort="30" velocity="1.0" lower="-10.0" upper="10.0" />
        <axis xyz="0 0 1" />
    </joint>
	<joint name="jRightAnkle_rotx" type="revolute">
        <origin xyz="0.000249           0    -0.44087" rpy="0 0 0"/>
        <parent link="RightLowerLeg"/>
        <child link="RightFoot_f1"/>
        <dynamics damping="0.1" friction="0.0"/>
        <limit effort="30" velocity="1.0" lower="-10.0" upper="10.0" />
        <axis xyz="1 0 0" />
    </joint>
	<joint name="jRightAnkle_roty" type="revolute">
        <origin xyz="0 0 0" rpy="0 0 0"/>
        <parent link="RightFoot_f1"/>
        <child link="RightFoot_f2"/>
        <dynamics damping="0.1" friction="0.0"/>
        <limit effort="30" velocity="1.0" lower="-10.0" upper="10.0" />
        <axis xyz="0 1 0" />
    </joint>
    <joint name="jRightAnkle_rotz" type="revolute">
        <origin xyz="0 0 0" rpy="0 0 0"/>
        <parent link="RightFoot_f2"/>
        <child link="RightFoot"/>
        <dynamics damping="0.1" friction="0.0"/>
        <limit effort="30" velocity="1.0" lower="-10.0" upper="10.0" />
        <axis xyz="0 0 1" />
    </joint>
	<joint name="jRightBallFoot_roty" type="revolute">
        <origin xyz="0.1435           0   -0.063865" rpy="0 0 0"/>
        <parent link="RightFoot"/>
        <child link="RightToe"/>
        <dynamics damping="0.1" friction="0.0"/>
        <limit effort="30" velocity="1.0" lower="-10.0" upper="10.0" />
        <axis xyz="0 1 0" />
    </joint>
	<!--Chain from (20) to (23)-->
	<joint name="jLeftHip_rotx" type="revolute">
        <origin xyz="0.000283    0.080902    0.002772" rpy="0 0 0"/>
        <parent link="Pelvis"/>
        <child link="LeftUpperLeg_f1"/>
        <dynamics damping="0.1" friction="0.0"/>
        <limit effort="30" velocity="1.0" lower="-10.0" upper="10.0" />
        <axis xyz="1 0 0" />
    </joint>
	<joint name="jLeftHip_roty" type="revolute">
        <origin xyz="0 0 0" rpy="0 0 0"/>
        <parent link="LeftUpperLeg_f1"/>
        <child link="LeftUpperLeg_f2"/>
        <dynamics damping="0.1" friction="0.0"/>
        <limit effort="30" velocity="1.0" lower="-10.0" upper="10.0" />
        <axis xyz="0 1 0" />
    </joint>
    <joint name="jLeftHip_rotz" type="revolute">
        <origin xyz="0 0 0" rpy="0 0 0"/>
        <parent link="LeftUpperLeg_f2"/>
        <child link="LeftUpperLeg"/>
        <dynamics damping="0.1" friction="0.0"/>
        <limit effort="30" velocity="1.0" lower="-10.0" upper="10.0" />
        <axis xyz="0 0 1" />
    </joint>
	<joint name="jLeftKnee_roty" type="revolute">
        <origin xyz="-3e-06           0     -0.4767" rpy="0 0 0"/>
        <parent link="LeftUpperLeg"/>
        <child link="LeftLowerLeg_f1"/>
        <dynamics damping="0.1" friction="0.0"/>
        <limit effort="30" velocity="1.0" lower="-10.0" upper="10.0" />
        <axis xyz="0 1 0" />
    </joint>
    <joint name="jLeftKnee_rotz" type="revolute">
        <origin xyz="0 0 0" rpy="0 0 0"/>
        <parent link="LeftLowerLeg_f1"/>
        <child link="LeftLowerLeg"/>
        <dynamics damping="0.1" friction="0.0"/>
        <limit effort="30" velocity="1.0" lower="-10.0" upper="10.0" />
        <axis xyz="0 0 1" />
    </joint>
	<joint name="jLeftAnkle_rotx" type="revolute">
        <origin xyz="0.000249           0    -0.44087" rpy="0 0 0"/>
        <parent link="LeftLowerLeg"/>
        <child link="LeftFoot_f1"/>
        <dynamics damping="0.1" friction="0.0"/>
        <limit effort="30" velocity="1.0" lower="-10.0" upper="10.0" />
        <axis xyz="1 0 0" />
    </joint>
	<joint name="jLeftAnkle_roty" type="revolute">
        <origin xyz="0 0 0" rpy="0 0 0"/>
        <parent link="LeftFoot_f1"/>
        <child link="LeftFoot_f2"/>
        <dynamics damping="0.1" friction="0.0"/>
        <limit effort="30" velocity="1.0" lower="-10.0" upper="10.0" />
        <axis xyz="0 1 0" />
    </joint>
    <joint name="jLeftAnkle_rotz" type="revolute">
        <origin xyz="0 0 0" rpy="0 0 0"/>
        <parent link="LeftFoot_f2"/>
        <child link="LeftFoot"/>
        <dynamics damping="0.1" friction="0.0"/>
        <limit effort="30" velocity="1.0" lower="-10.0" upper="10.0" />
        <axis xyz="0 0 1" />
    </joint>
	<joint name="jLeftBallFoot_roty" type="revolute">
        <origin xyz="0.1435           0   -0.063865" rpy="0 0 0"/>
        <parent link="LeftFoot"/>
        <child link="LeftToe"/>
        <dynamics damping="0.1" friction="0.0"/>
        <limit effort="30" velocity="1.0" lower="-10.0" upper="10.0" />
        <axis xyz="0 1 0" />
    </joint>

	<!-- Sensor  1-->
<sensor name="Pelvis_gyro" type="gyroscope">
<parent link="Pelvis"/>
<origin xyz="-0.056379  5.9023e-05    0.096178" rpy="-0.12831      1.3716      2.9515"/>
</sensor>
<sensor name="Pelvis_accelerometer" type="accelerometer">
<parent link="Pelvis"/>
<origin xyz="-0.056379  5.9023e-05    0.096178" rpy="-0.12831      1.3716      2.9515"/>
</sensor>
<!-- Sensor  2-->
<sensor name="T8_gyro" type="gyroscope">
<parent link="T8"/>
<origin xyz="0.11706 -5.8412e-06    0.064394" rpy="-0.15263      1.2353    -0.13995"/>
</sensor>
<sensor name="T8_accelerometer" type="accelerometer">
<parent link="T8"/>
<origin xyz="0.11706 -5.8412e-06    0.064394" rpy="-0.15263      1.2353    -0.13995"/>
</sensor>
<!-- Sensor  3-->
<sensor name="Head_gyro" type="gyroscope">
<parent link="Head"/>
<origin xyz="-0.070424  6.6877e-06    0.077405" rpy="2.3191    0.028482     -1.3932"/>
</sensor>
<sensor name="Head_accelerometer" type="accelerometer">
<parent link="Head"/>
<origin xyz="-0.070424  6.6877e-06    0.077405" rpy="2.3191    0.028482     -1.3932"/>
</sensor>
<!-- Sensor  4-->
<sensor name="RightShoulder_gyro" type="gyroscope">
<parent link="RightShoulder"/>
<origin xyz="-0.020111   -0.050339   -0.060376" rpy="1.2553    -0.28254      -1.454"/>
</sensor>
<sensor name="RightShoulder_accelerometer" type="accelerometer">
<parent link="RightShoulder"/>
<origin xyz="-0.020111   -0.050339   -0.060376" rpy="1.2553    -0.28254      -1.454"/>
</sensor>
<!-- Sensor  5-->
<sensor name="RightUpperArm_gyro" type="gyroscope">
<parent link="RightUpperArm"/>
<origin xyz="-0.018552   -0.092663    0.018536" rpy="-0.062567   -0.014085     -1.7201"/>
</sensor>
<sensor name="RightUpperArm_accelerometer" type="accelerometer">
<parent link="RightUpperArm"/>
<origin xyz="-0.018552   -0.092663    0.018536" rpy="-0.062567   -0.014085     -1.7201"/>
</sensor>
<!-- Sensor  6-->
<sensor name="RightForeArm_gyro" type="gyroscope">
<parent link="RightForeArm"/>
<origin xyz="0.0017155    -0.18717    0.018697" rpy="-0.93102   -0.031527      -1.324"/>
</sensor>
<sensor name="RightForeArm_accelerometer" type="accelerometer">
<parent link="RightForeArm"/>
<origin xyz="0.0017155    -0.18717    0.018697" rpy="-0.93102   -0.031527      -1.324"/>
</sensor>
<!-- Sensor  7-->
<sensor name="RightHand_gyro" type="gyroscope">
<parent link="RightHand"/>
<origin xyz="-3.7264e-06   -0.051905    0.018869" rpy="-0.56817     -0.1242     -1.4968"/>
</sensor>
<sensor name="RightHand_accelerometer" type="accelerometer">
<parent link="RightHand"/>
<origin xyz="-3.7264e-06   -0.051905    0.018869" rpy="-0.56817     -0.1242     -1.4968"/>
</sensor>
<!-- Sensor  8-->
<sensor name="LeftShoulder_gyro" type="gyroscope">
<parent link="LeftShoulder"/>
<origin xyz="-0.020145     0.05035   -0.060405" rpy="-1.2762    -0.25077       1.311"/>
</sensor>
<sensor name="LeftShoulder_accelerometer" type="accelerometer">
<parent link="LeftShoulder"/>
<origin xyz="-0.020145     0.05035   -0.060405" rpy="-1.2762    -0.25077       1.311"/>
</sensor>
<!-- Sensor  9-->
<sensor name="LeftUpperArm_gyro" type="gyroscope">
<parent link="LeftUpperArm"/>
<origin xyz="-0.018507    0.092638    0.018515" rpy="-0.27227   -0.014082      1.6425"/>
</sensor>
<sensor name="LeftUpperArm_accelerometer" type="accelerometer">
<parent link="LeftUpperArm"/>
<origin xyz="-0.018507    0.092638    0.018515" rpy="-0.27227   -0.014082      1.6425"/>
</sensor>
<!-- Sensor  10-->
<sensor name="LeftForeArm_gyro" type="gyroscope">
<parent link="LeftForeArm"/>
<origin xyz="0.0017437     0.18715    0.018676" rpy="0.95058    0.014378      1.1549"/>
</sensor>
<sensor name="LeftForeArm_accelerometer" type="accelerometer">
<parent link="LeftForeArm"/>
<origin xyz="0.0017437     0.18715    0.018676" rpy="0.95058    0.014378      1.1549"/>
</sensor>
<!-- Sensor  11-->
<sensor name="LeftHand_gyro" type="gyroscope">
<parent link="LeftHand"/>
<origin xyz="1.3859e-05    0.051856    0.018889" rpy="0.5975    0.005576      1.4608"/>
</sensor>
<sensor name="LeftHand_accelerometer" type="accelerometer">
<parent link="LeftHand"/>
<origin xyz="1.3859e-05    0.051856    0.018889" rpy="0.5975    0.005576      1.4608"/>
</sensor>
<!-- Sensor  12-->
<sensor name="RightUpperLeg_gyro" type="gyroscope">
<parent link="RightUpperLeg"/>
<origin xyz="0.0138   -0.048579    -0.28702" rpy="-2.7828      1.3982      1.8178"/>
</sensor>
<sensor name="RightUpperLeg_accelerometer" type="accelerometer">
<parent link="RightUpperLeg"/>
<origin xyz="0.0138   -0.048579    -0.28702" rpy="-2.7828      1.3982      1.8178"/>
</sensor>
<!-- Sensor  13-->
<sensor name="RightLowerLeg_gyro" type="gyroscope">
<parent link="RightLowerLeg"/>
<origin xyz="0.033333   0.0076285    -0.14333" rpy="-2.6933       1.393     -2.7409"/>
</sensor>
<sensor name="RightLowerLeg_accelerometer" type="accelerometer">
<parent link="RightLowerLeg"/>
<origin xyz="0.033333   0.0076285    -0.14333" rpy="-2.6933       1.393     -2.7409"/>
</sensor>
<!-- Sensor  14-->
<sensor name="RightFoot_gyro" type="gyroscope">
<parent link="RightFoot"/>
<origin xyz="0.083055   0.0014008   -0.011714" rpy="0.42804     0.49487    0.098317"/>
</sensor>
<sensor name="RightFoot_accelerometer" type="accelerometer">
<parent link="RightFoot"/>
<origin xyz="0.083055   0.0014008   -0.011714" rpy="0.42804     0.49487    0.098317"/>
</sensor>
<!-- Sensor  15-->
<sensor name="LeftUpperLeg_gyro" type="gyroscope">
<parent link="LeftUpperLeg"/>
<origin xyz="0.01383    0.048582     -0.2869" rpy="-3.0472      1.4564     -1.7367"/>
</sensor>
<sensor name="LeftUpperLeg_accelerometer" type="accelerometer">
<parent link="LeftUpperLeg"/>
<origin xyz="0.01383    0.048582     -0.2869" rpy="-3.0472      1.4564     -1.7367"/>
</sensor>
<!-- Sensor  16-->
<sensor name="LeftLowerLeg_gyro" type="gyroscope">
<parent link="LeftLowerLeg"/>
<origin xyz="0.033342   -0.007636    -0.14334" rpy="2.4206      1.3713      2.3965"/>
</sensor>
<sensor name="LeftLowerLeg_accelerometer" type="accelerometer">
<parent link="LeftLowerLeg"/>
<origin xyz="0.033342   -0.007636    -0.14334" rpy="2.4206      1.3713      2.3965"/>
</sensor>
<!-- Sensor  17-->
<sensor name="LeftFoot_gyro" type="gyroscope">
<parent link="LeftFoot"/>
<origin xyz="0.083074  -0.0014024   -0.011731" rpy="-0.47431      0.5024   -0.026024"/>
</sensor>
<sensor name="LeftFoot_accelerometer" type="accelerometer">
<parent link="LeftFoot"/>
<origin xyz="0.083074  -0.0014024   -0.011731" rpy="-0.47431      0.5024   -0.026024"/>
</sensor>


</robot>
